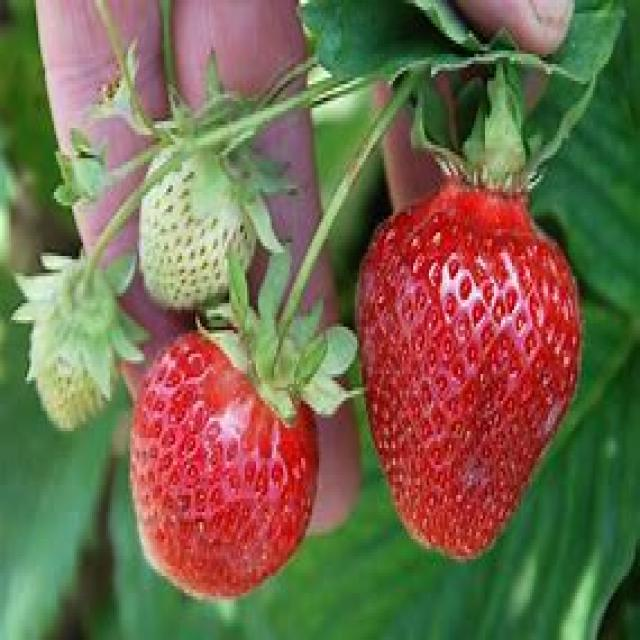strawberry: (357, 173, 586, 555), (128, 334, 324, 597)
